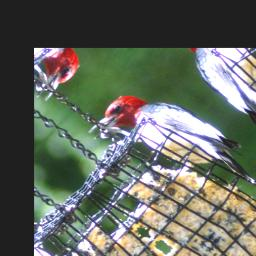Woodpecker: (82, 70, 256, 233)
